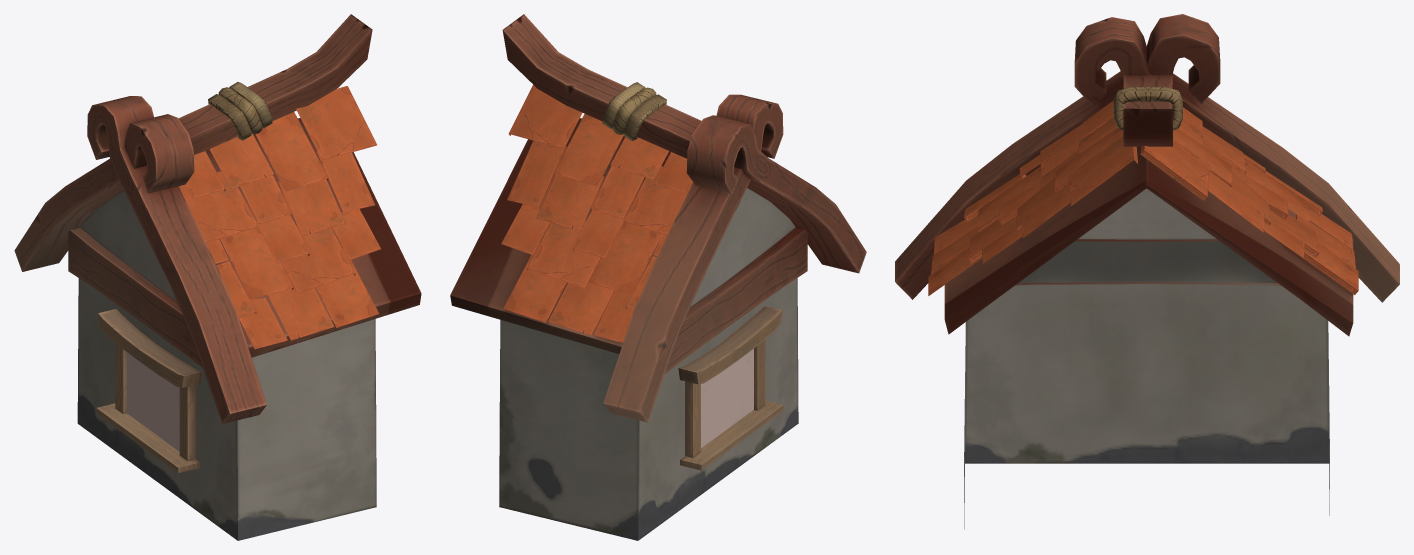
File: SM_Shack_02.fbx
3 renders of one model, left to right at view 1: azimuth 30°, elevation 25°; view 2: azimuth 150°, elevation 25°; view 3: azimuth 270°, elevation 25°, orthographic. The views are drawn at different scales.
Visible parts, largest first — view 1: SM_Shack_02, SM_Window_02; view 2: SM_Shack_02, SM_Window_02; view 3: SM_Shack_02.
Boxes of the visible parts, x1,y1,x2,y2 form: SM_Shack_02: (14,14,421,540); SM_Window_02: (96,309,201,473); SM_Shack_02: (450,14,866,540); SM_Window_02: (678,306,783,470); SM_Shack_02: (895,14,1399,529).
Bounding box in the file's own units: 3.87 × 6.24 × 6.09.
